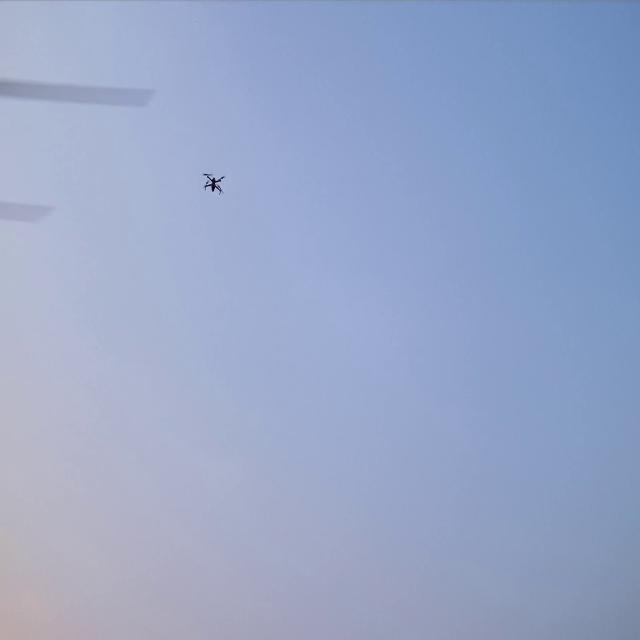UAV: (201, 170, 226, 197)
